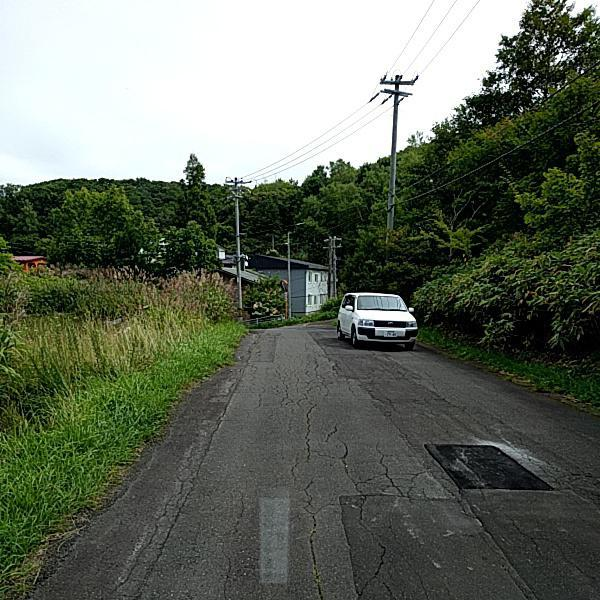D20: (246, 362, 599, 597)
